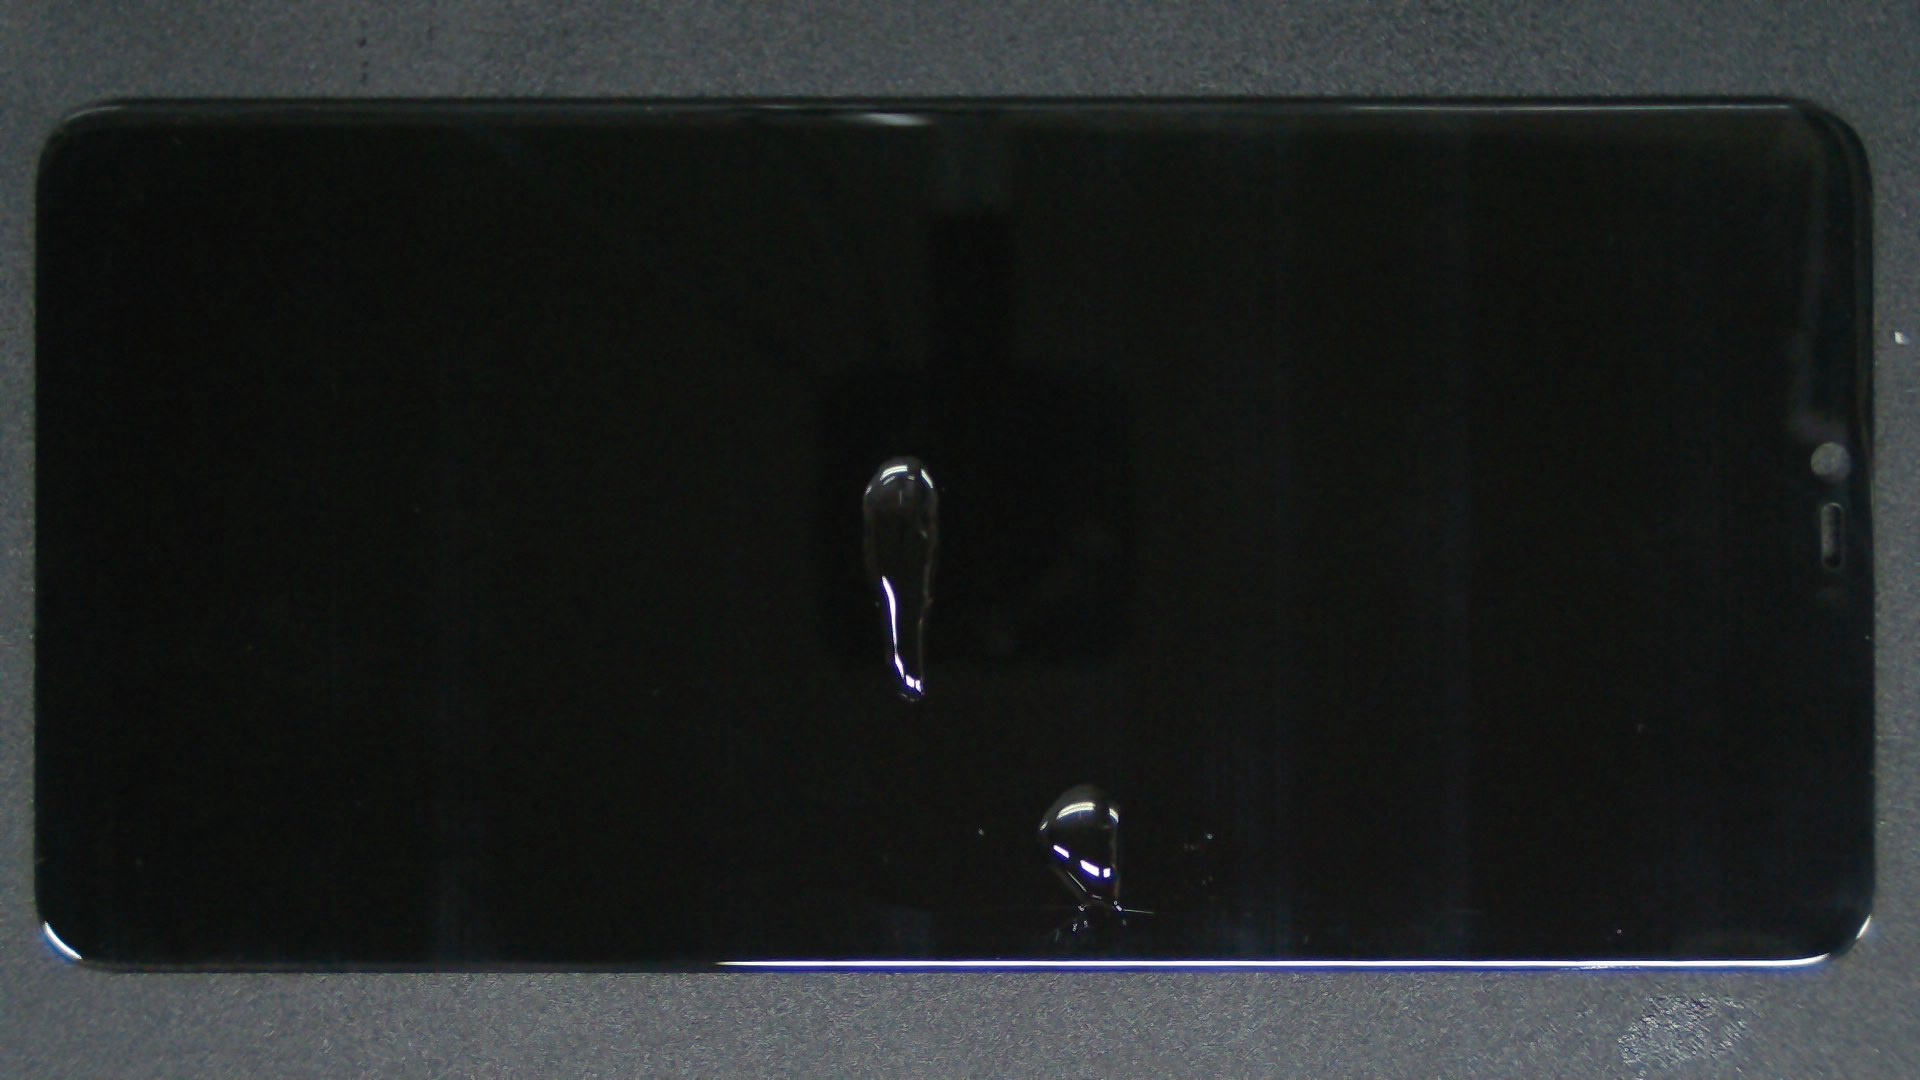oil: (550, 392, 1647, 1080), (448, 228, 1345, 684)
